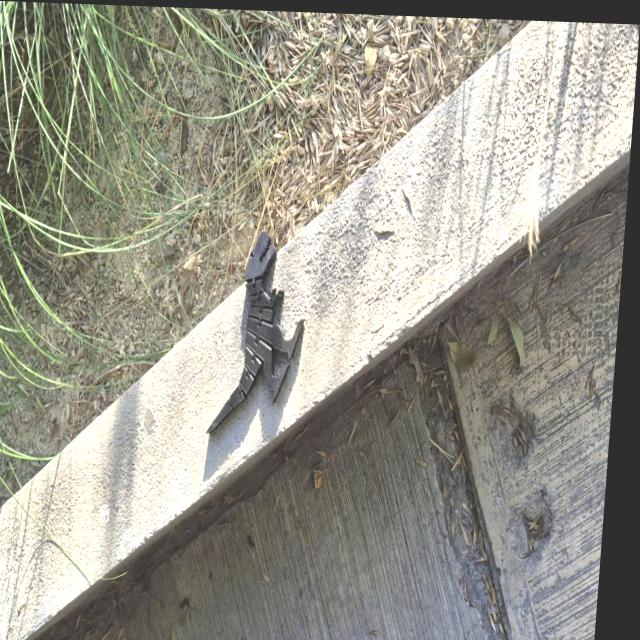dino: (205, 227, 313, 438)
